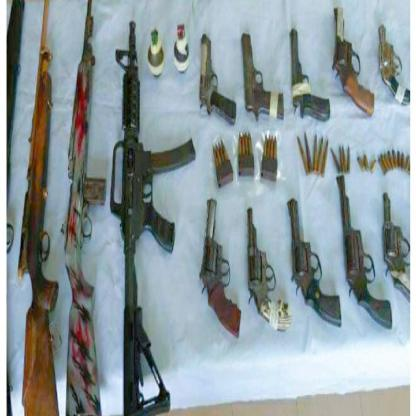Grenade: (146, 29, 166, 80), (172, 22, 190, 75)
Gun: (109, 1, 196, 416), (61, 0, 107, 416), (17, 0, 62, 416), (6, 0, 26, 257)
Pistol: (334, 173, 394, 332), (287, 196, 343, 328), (198, 196, 242, 341), (246, 203, 292, 336), (332, 6, 376, 119), (289, 26, 331, 124), (241, 32, 285, 122), (198, 33, 237, 128), (382, 192, 411, 304), (377, 23, 411, 108)
